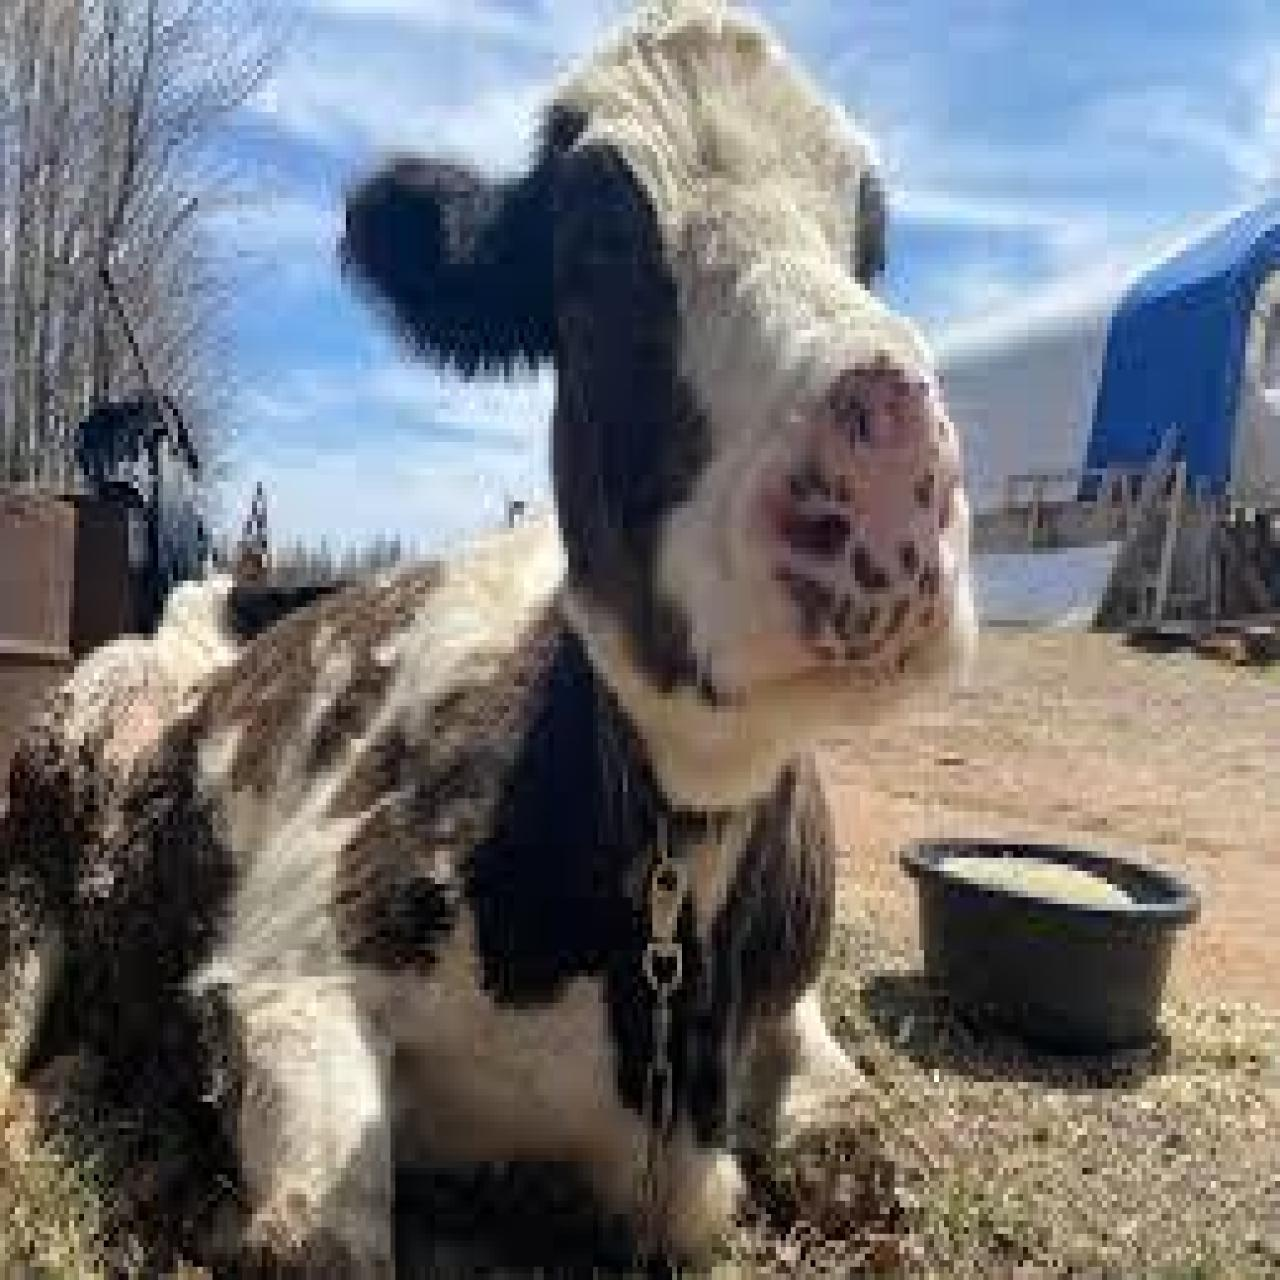cow: (0, 0, 974, 1280)
